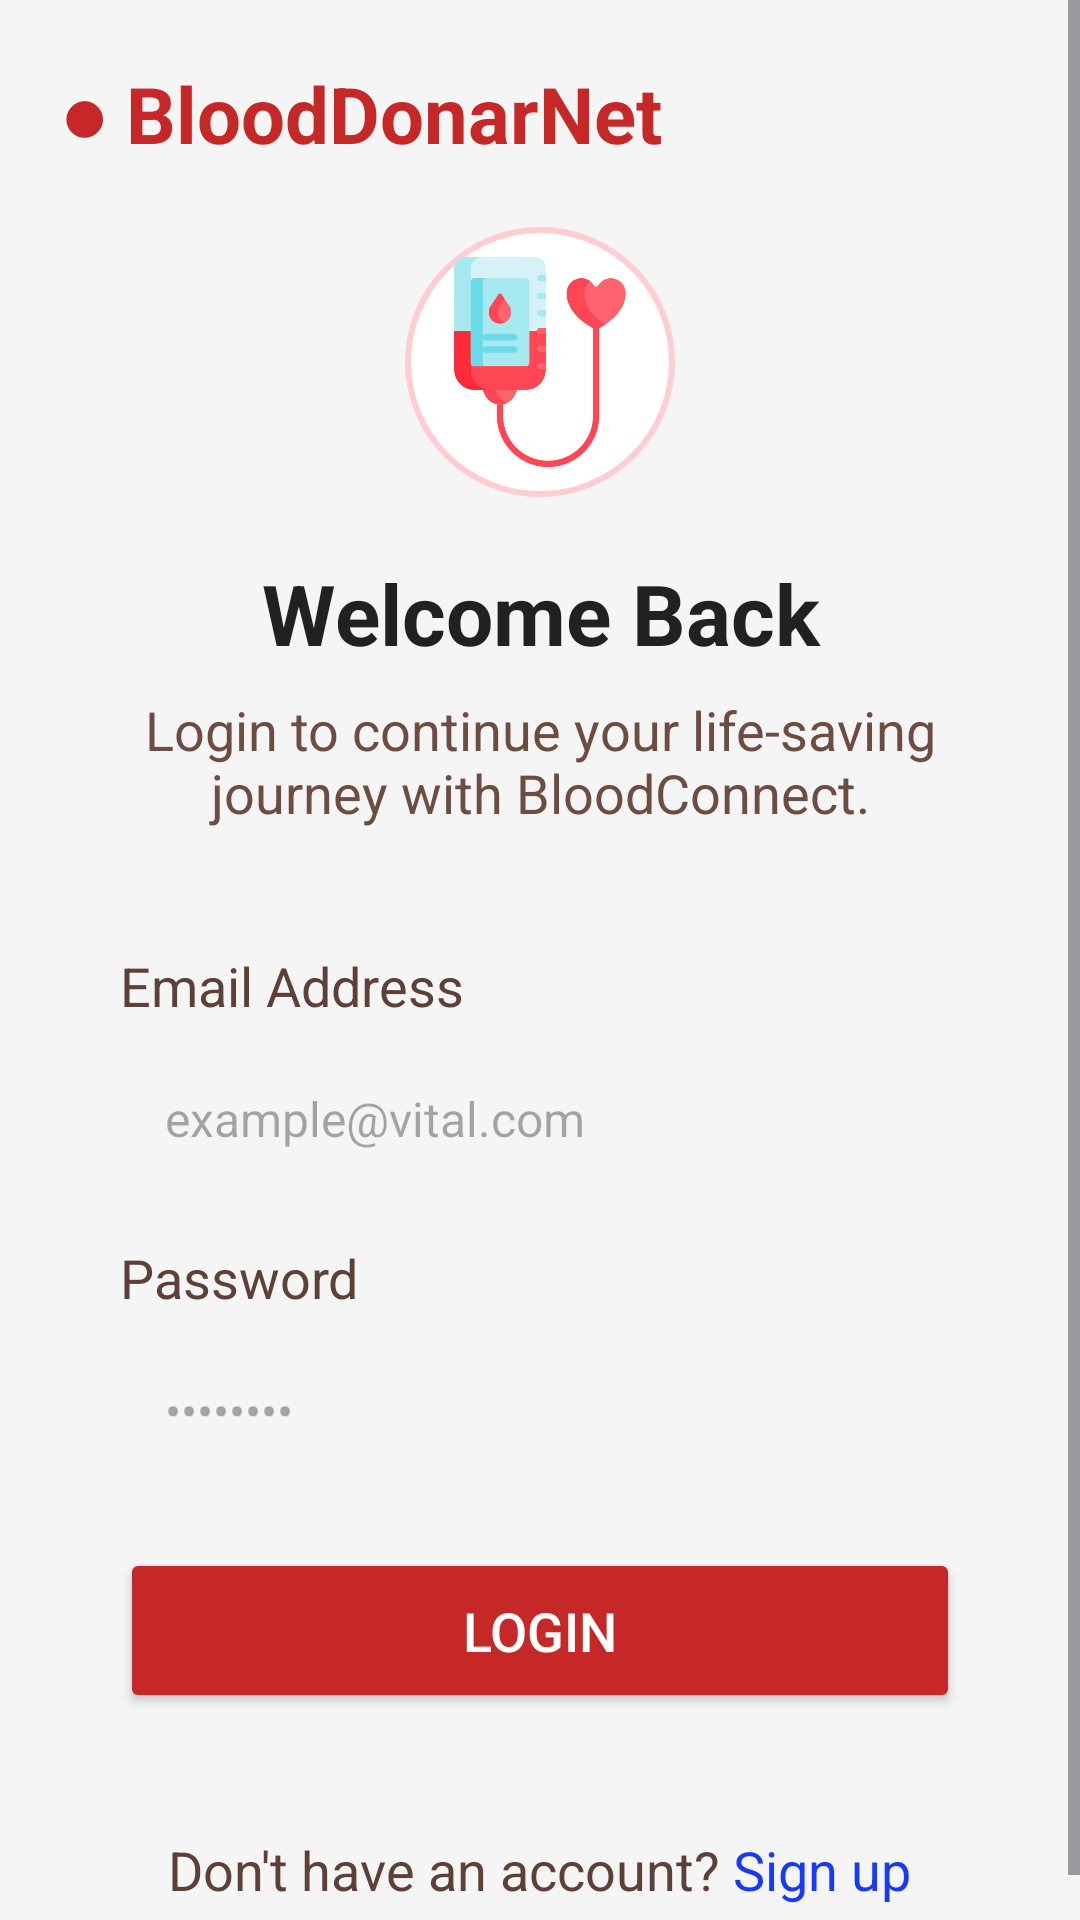

Where to tap for icons on this 1080w x 1920h app screen, as (x=x, y=y):
blood drop: (x=540, y=362)
